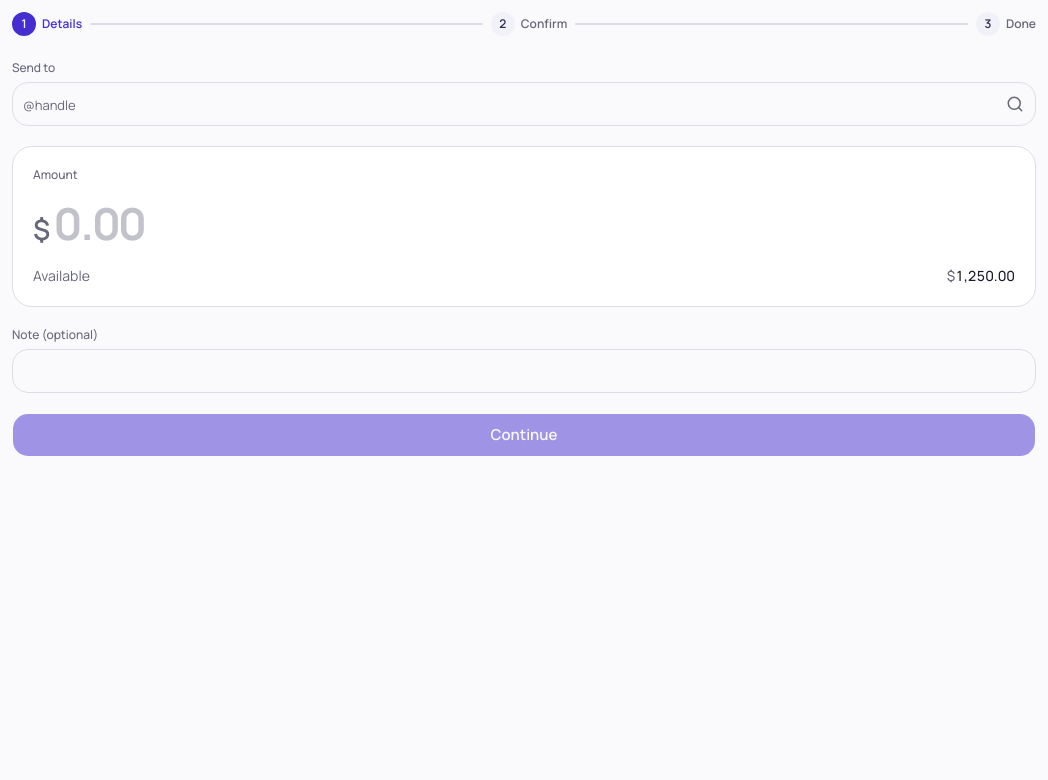
Test case: SendMoneyWizard › offers the match in a dropdown; picking it fills the handle and pins the recipient
Type "alice" into the dropdown labelled "Send to" at (524, 104), box [12,82,1036,126]
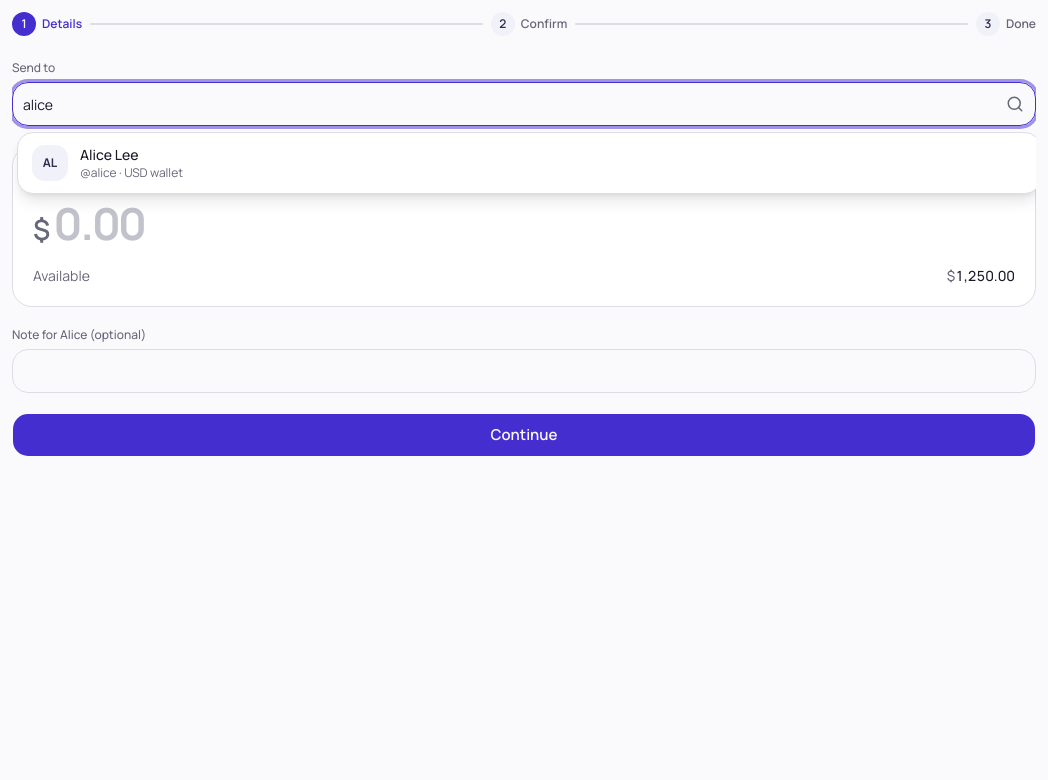
Expected: the dropdown labelled "Send to" is expanded, [12,82,1036,126]
Click the option "AL Alice Lee @alice · USD wallet" at (108, 163), box [32,145,183,181]
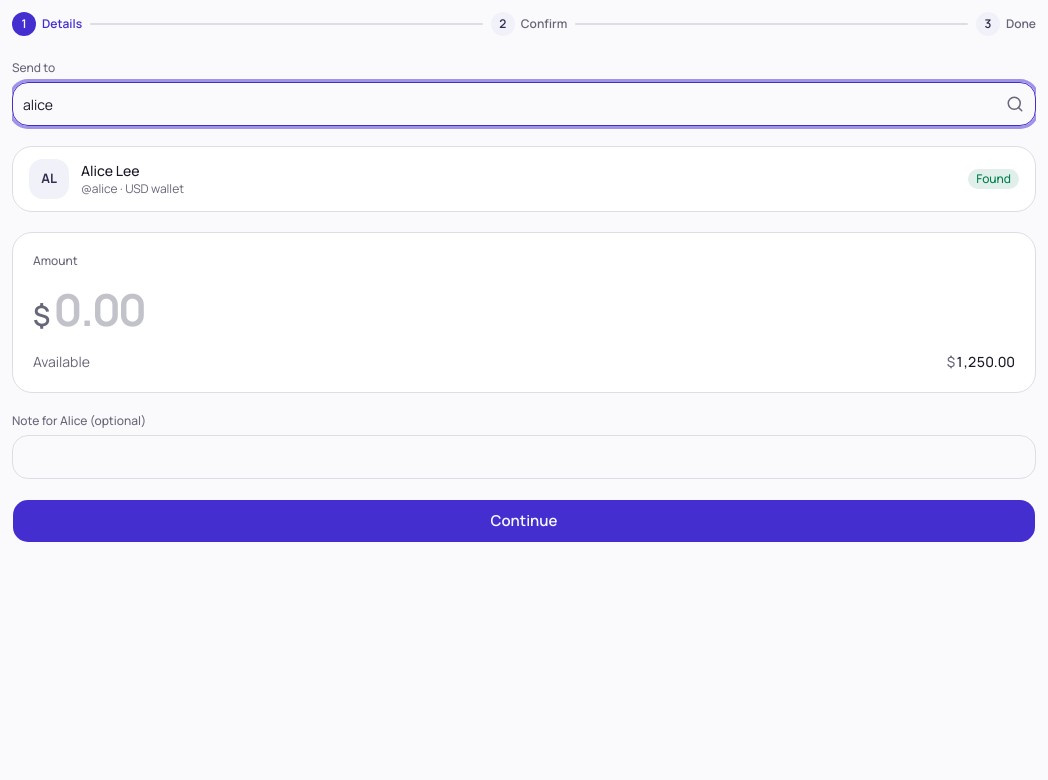
Expected: the button "Continue" is enabled, [12,499,1036,543]
Expected: the message shows "@alice · USD wallet", [12,146,1036,212]
